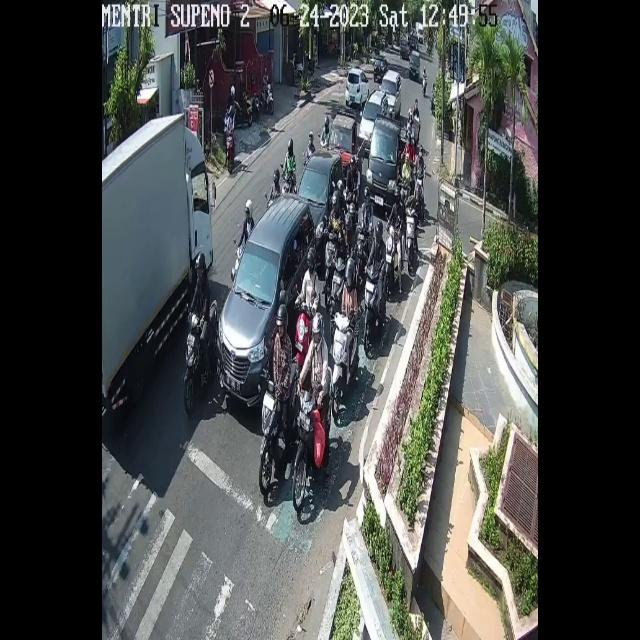bus: (293, 366, 333, 511), (258, 356, 299, 496), (182, 300, 218, 414), (330, 310, 360, 415), (363, 264, 382, 352), (293, 298, 313, 368), (384, 224, 402, 294), (329, 256, 345, 315), (405, 208, 418, 277), (324, 230, 337, 286), (234, 94, 252, 125), (224, 132, 236, 174), (260, 84, 274, 115), (356, 220, 370, 248), (400, 154, 412, 183), (222, 108, 230, 138), (252, 91, 260, 119), (416, 171, 424, 197), (234, 244, 242, 270), (283, 174, 293, 192), (345, 188, 354, 205), (422, 76, 427, 97), (320, 138, 327, 149)
motorcycle: (218, 192, 316, 409), (296, 148, 344, 229), (358, 89, 389, 150), (381, 70, 402, 117), (346, 68, 369, 108), (373, 54, 388, 84), (409, 49, 422, 83)
truck: (102, 112, 212, 415), (368, 113, 407, 209), (330, 114, 365, 169)
